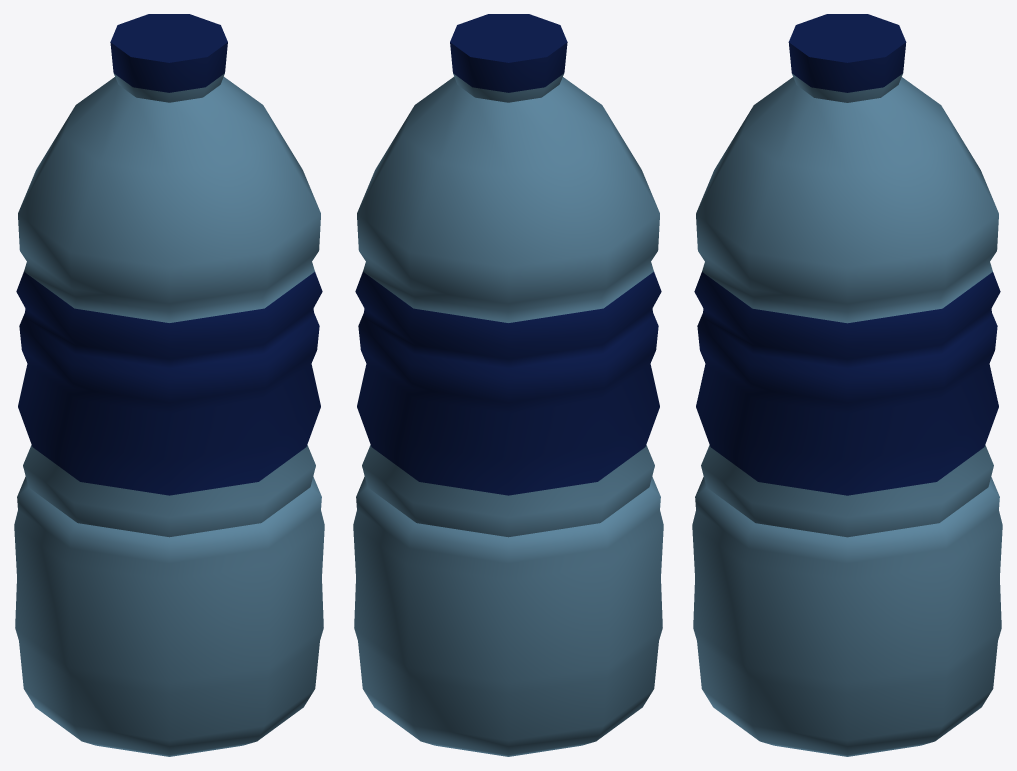
File: water bottle final.fbx
3 views of the same model, side by side, from view 1: azimuth 30°, elevation 25°; view 2: azimuth 150°, elevation 25°; view 3: azimuth 270°, elevation 25° (orthographic).
Visible parts, largest first — view 1: WATER_BOTTLE; view 2: WATER_BOTTLE; view 3: WATER_BOTTLE.
Part boxes in pixels (box(x1,y1,x2,y2)): WATER_BOTTLE: box(14, 14, 324, 756); WATER_BOTTLE: box(353, 14, 663, 756); WATER_BOTTLE: box(692, 14, 1002, 756).
Size of the model in its own units: 35.47 by 86.01 by 36.02.
